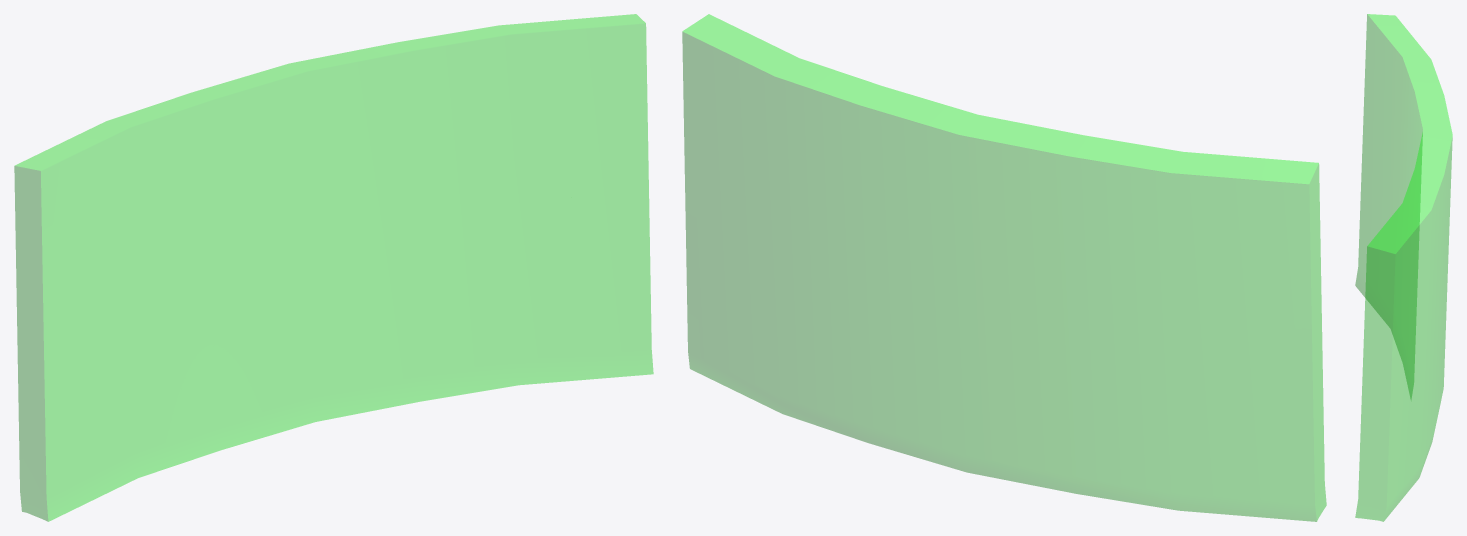
File: display_00v2.gltf
The picture shows the model from 3 angles, left to right: view 1: azimuth 30°, elevation 25°; view 2: azimuth 150°, elevation 25°; view 3: azimuth 270°, elevation 25°; orthographic projection. The views are drawn at different scales.
Parts seen in each view (by area): view 1: Model; view 2: Model; view 3: Model.
Boxes of the visible parts, x1=… form: Model: x1=14, y1=14, x2=653, y2=521; Model: x1=682, y1=14, x2=1326, y2=521; Model: x1=1355, y1=14, x2=1452, y2=521.
Size of the model in its own units: 19.41 by 10.34 by 3.36.
